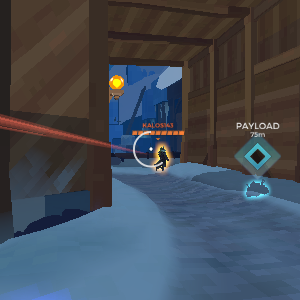model: (152, 144, 170, 176)
